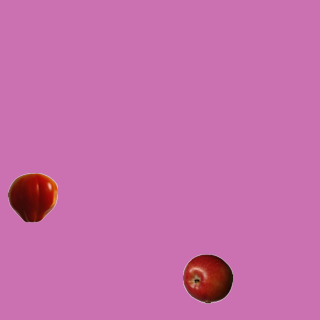Apple Braeburn: (182, 253, 232, 303)
Tomato 1: (7, 172, 57, 222)
